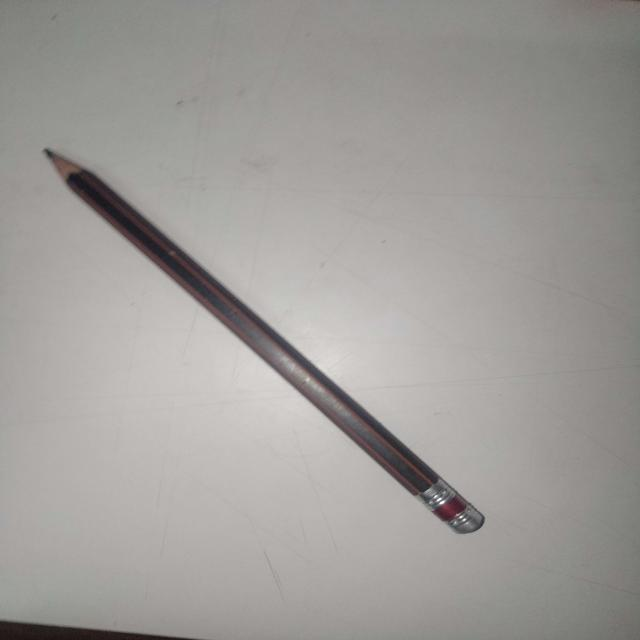pen_pencil: (22, 126, 554, 591)
